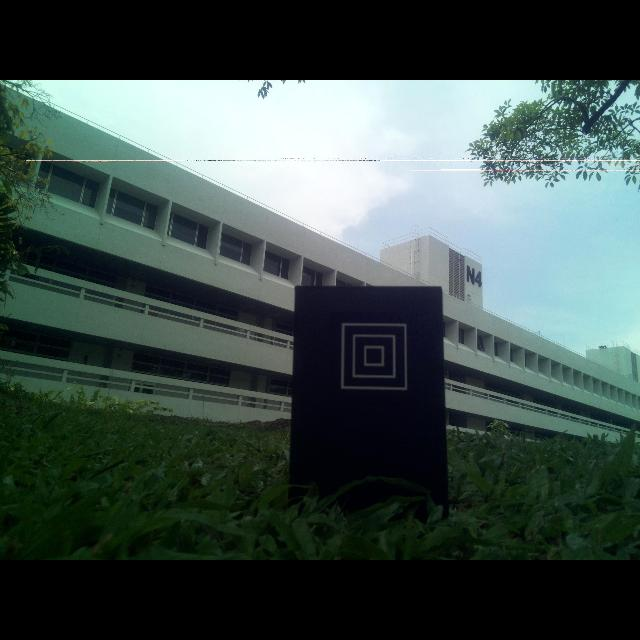BULLSEYE: (341, 323, 407, 390)
